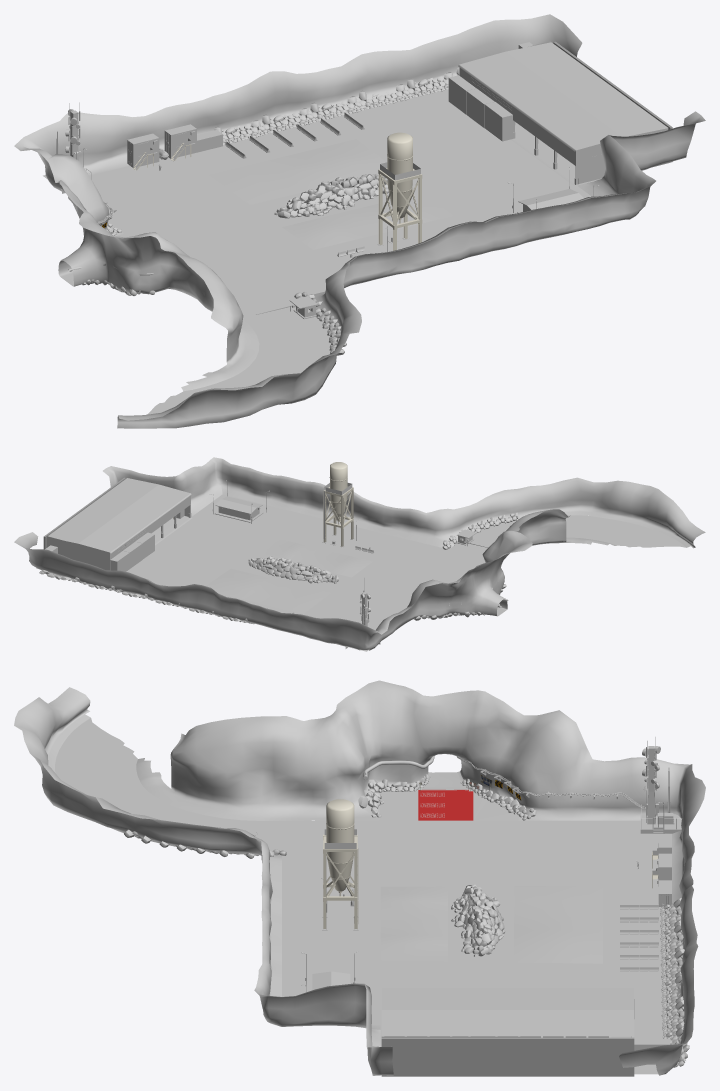
Rendered from GrupoExterno.fbx.
3 renders of one model, top to bottom at view 1: azimuth 30°, elevation 25°; view 2: azimuth 150°, elevation 25°; view 3: azimuth 270°, elevation 25°, orthographic. The views are drawn at different scales.
Parts seen in each view (by area): view 1: MuroExterior01, SueloExterior01, Planchas, SueloExterior02, Roquerios_6, GrupoRocasExterior, Containers02, Containers01, Cono_silos, EstrucRecto, Concreto01, OficinaCentral (+1 smaller); view 2: MuroExterior01, SueloExterior01, Planchas, SueloExterior02, GrupoRocasExterior, Containers02, OficinaCentral, Cono_silos, Roquerios_6, EstrucRecto, Roquerios_7, Concreto01; view 3: MuroExterior01, SueloExterior01, Planchas, SueloExterior02, TapaCubierta, Roquerios_6, GrupoRocasExterior, SueloEntrada, Cono_silos, Containers01, EstrucRecto, Antena (+4 smaller).
Boxes of the visible parts, box(x1,y1,x2,y2) form: MuroExterior01: box(14, 14, 705, 428); SueloExterior01: box(89, 89, 601, 414); Planchas: box(458, 41, 668, 184); SueloExterior02: box(209, 139, 454, 249); Roquerios_6: box(214, 67, 459, 144); GrupoRocasExterior: box(274, 173, 388, 218); Containers02: box(448, 75, 512, 141); Containers01: box(127, 124, 222, 167); Cono_silos: box(387, 132, 413, 223); EstrucRecto: box(378, 168, 422, 250); Concreto01: box(511, 122, 574, 185); OficinaCentral: box(517, 189, 583, 212); MuroExterior01: box(14, 457, 705, 650); SueloExterior01: box(36, 494, 686, 630); Planchas: box(47, 478, 191, 570); SueloExterior02: box(206, 538, 372, 613); GrupoRocasExterior: box(248, 556, 338, 583); Containers02: box(110, 532, 154, 571); OficinaCentral: box(214, 496, 263, 522); Cono_silos: box(329, 462, 347, 524); Roquerios_6: box(39, 569, 254, 624); EstrucRecto: box(323, 487, 353, 546); Roquerios_7: box(442, 512, 521, 549); Concreto01: box(152, 516, 191, 544); MuroExterior01: box(14, 680, 705, 1075); SueloExterior01: box(55, 718, 665, 1074); Planchas: box(381, 987, 634, 1037); SueloExterior02: box(380, 885, 602, 963); TapaCubierta: box(381, 1037, 634, 1076); Roquerios_6: box(660, 898, 689, 1067); GrupoRocasExterior: box(451, 884, 505, 956); SueloEntrada: box(418, 771, 473, 820); Cono_silos: box(326, 799, 354, 896); Containers01: box(658, 834, 671, 906); EstrucRecto: box(323, 834, 357, 929); Antena: box(642, 737, 660, 824).
Bounding box in the file's own units: 20764 × 3085 × 15873.
